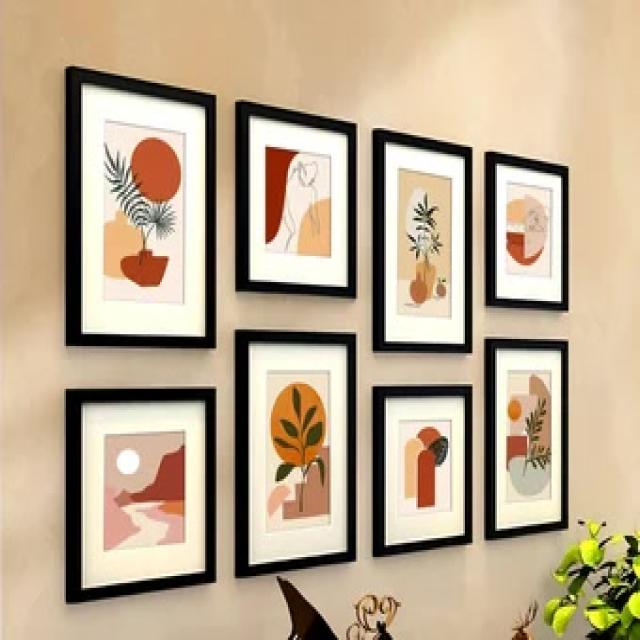painting: (75, 66, 218, 348), (75, 386, 217, 603), (242, 328, 356, 576), (244, 100, 359, 297), (381, 129, 473, 351), (378, 382, 474, 556), (491, 337, 569, 541), (490, 151, 568, 310)
